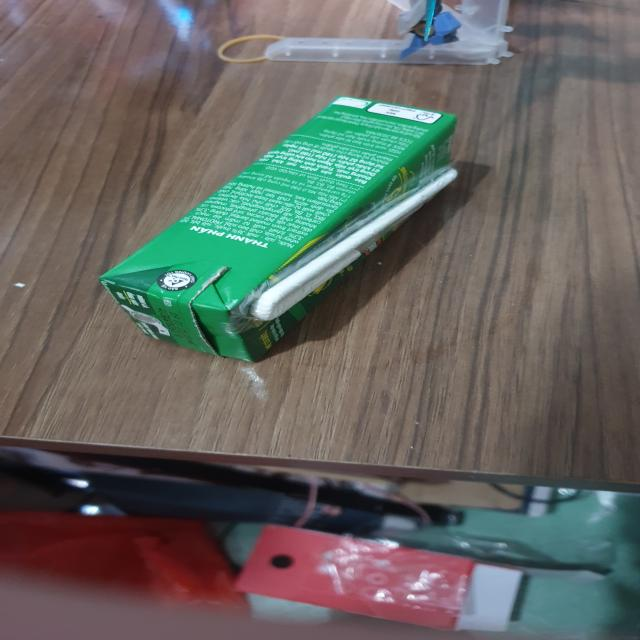Milo: (108, 98, 478, 366)
